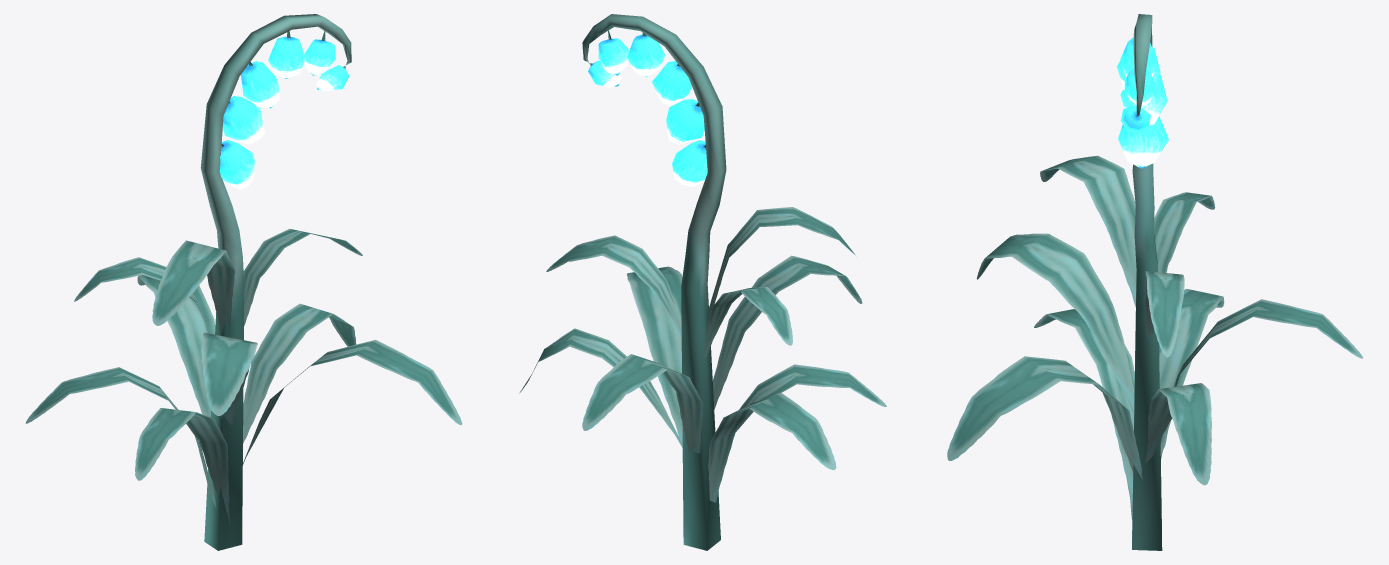
The model's file is SM_ENV_flower_ancient_01_02.fbx.
The picture shows the model from 3 angles, left to right: view 1: azimuth 30°, elevation 25°; view 2: azimuth 150°, elevation 25°; view 3: azimuth 270°, elevation 25°; orthographic projection. The views are drawn at different scales.
Visible parts, largest first — view 1: SM_ENV_flower_ancient_01_02_LOD0; view 2: SM_ENV_flower_ancient_01_02_LOD0; view 3: SM_ENV_flower_ancient_01_02_LOD0.
Boxes of the visible parts, box(x1,y1,x2,y2) form: SM_ENV_flower_ancient_01_02_LOD0: box(25, 14, 462, 550); SM_ENV_flower_ancient_01_02_LOD0: box(519, 14, 886, 550); SM_ENV_flower_ancient_01_02_LOD0: box(947, 14, 1363, 550).
Bounding box in the file's own units: 33.76 × 47.14 × 34.69.
